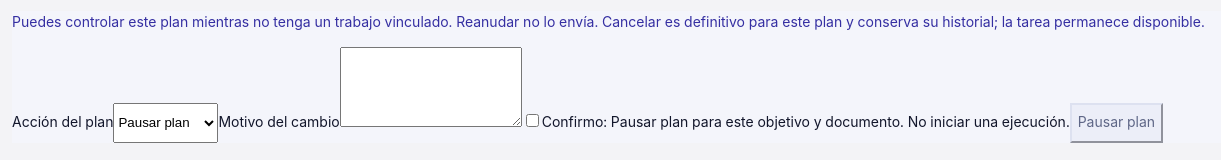
never posts on mount and requires a reason plus explicit confirmation
The width and height of the screenshot is (1221, 160).
Expected: the button "Pausar plan" is disabled, [1070,103,1163,143]
Type "Necesitamos revisar el objetivo primero" into the text box labelled "Motivo del cambio" at (431, 87), box [340,47,522,127]
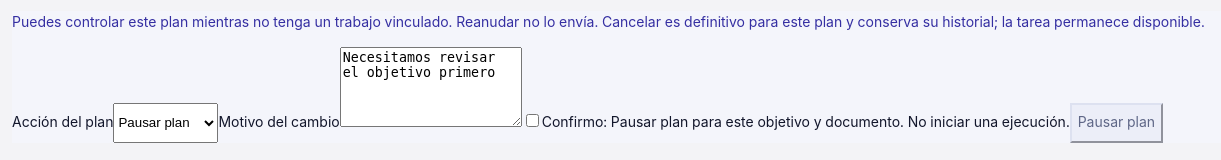
Click the checkbox at (532, 121), box [526,114,539,127]
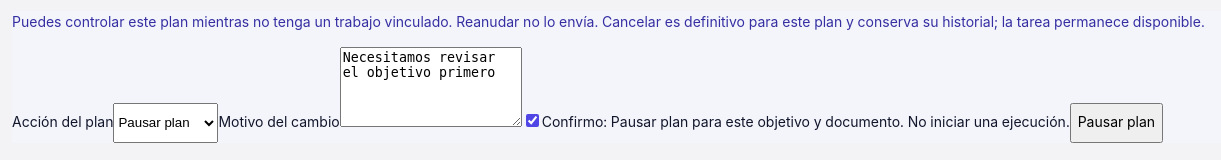
Result: the button "Pausar plan" is enabled at [1070,103,1163,143]
